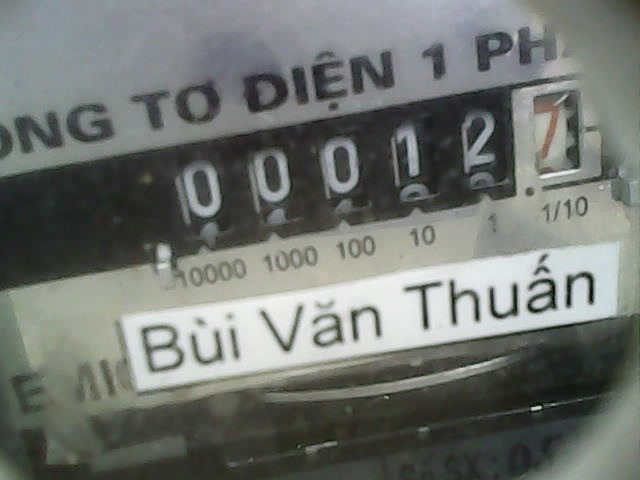phy_plate: (140, 77, 611, 233)
